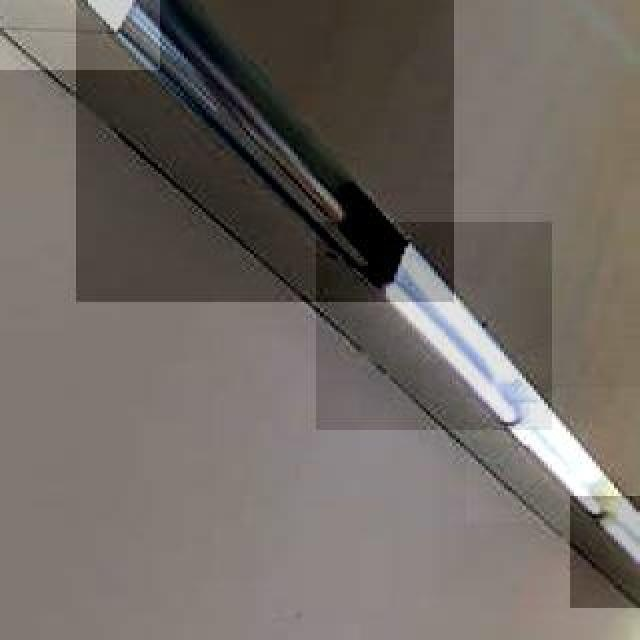fluorescent tube: (80, 0, 452, 310), (333, 275, 540, 429), (506, 416, 618, 516), (0, 0, 162, 64)
